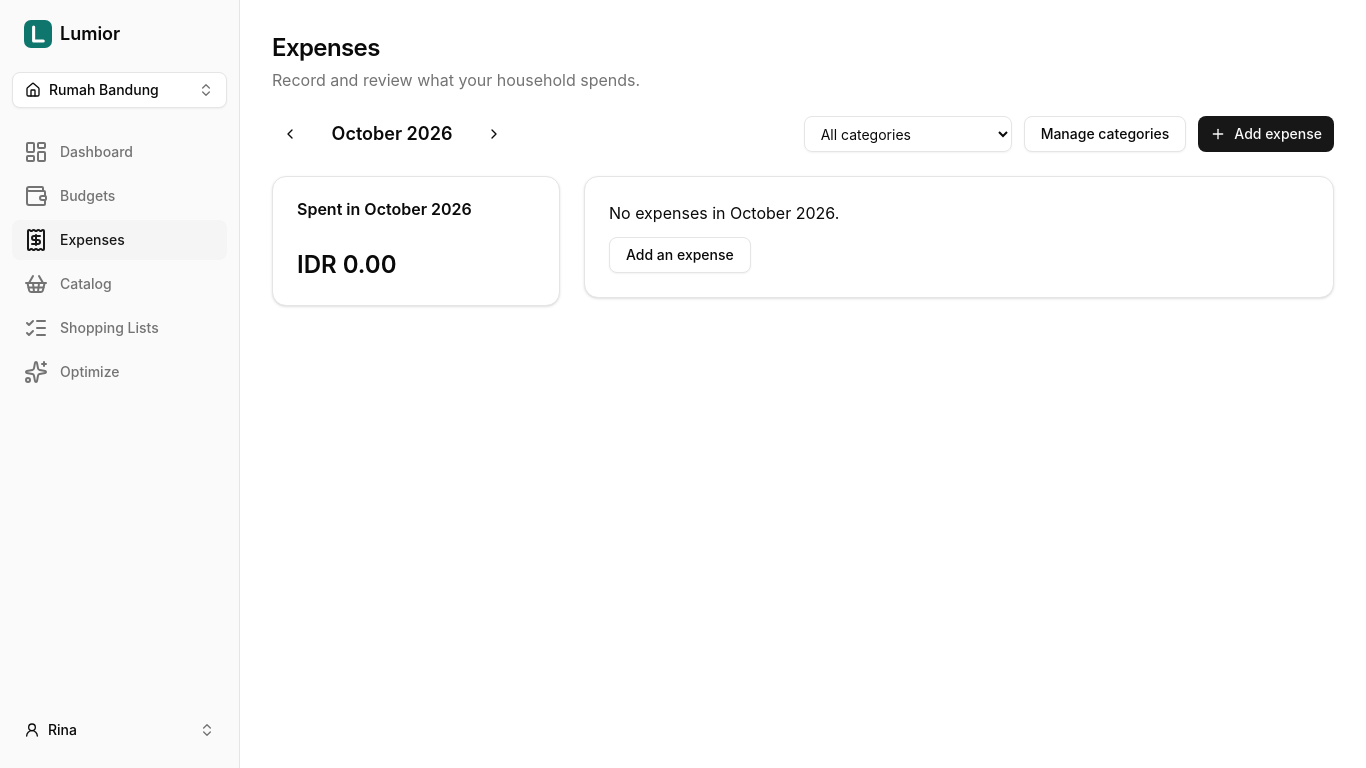
adding an expense › an expense for another month opens that month
Click the button "Add expense" at (1266, 134), box [1198, 116, 1334, 152]
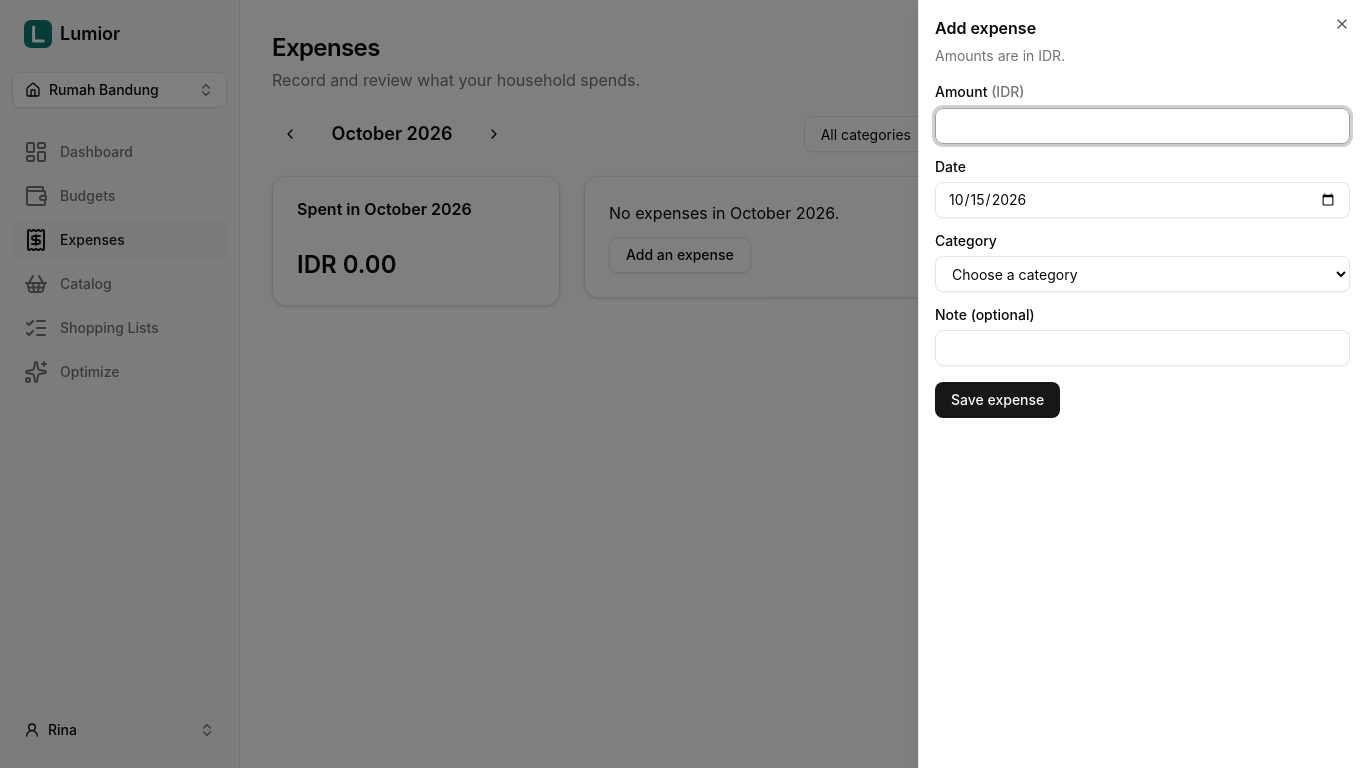
Type "12000" into the field labelled "Amount (IDR)" at (1142, 126), box [935, 108, 1350, 144]
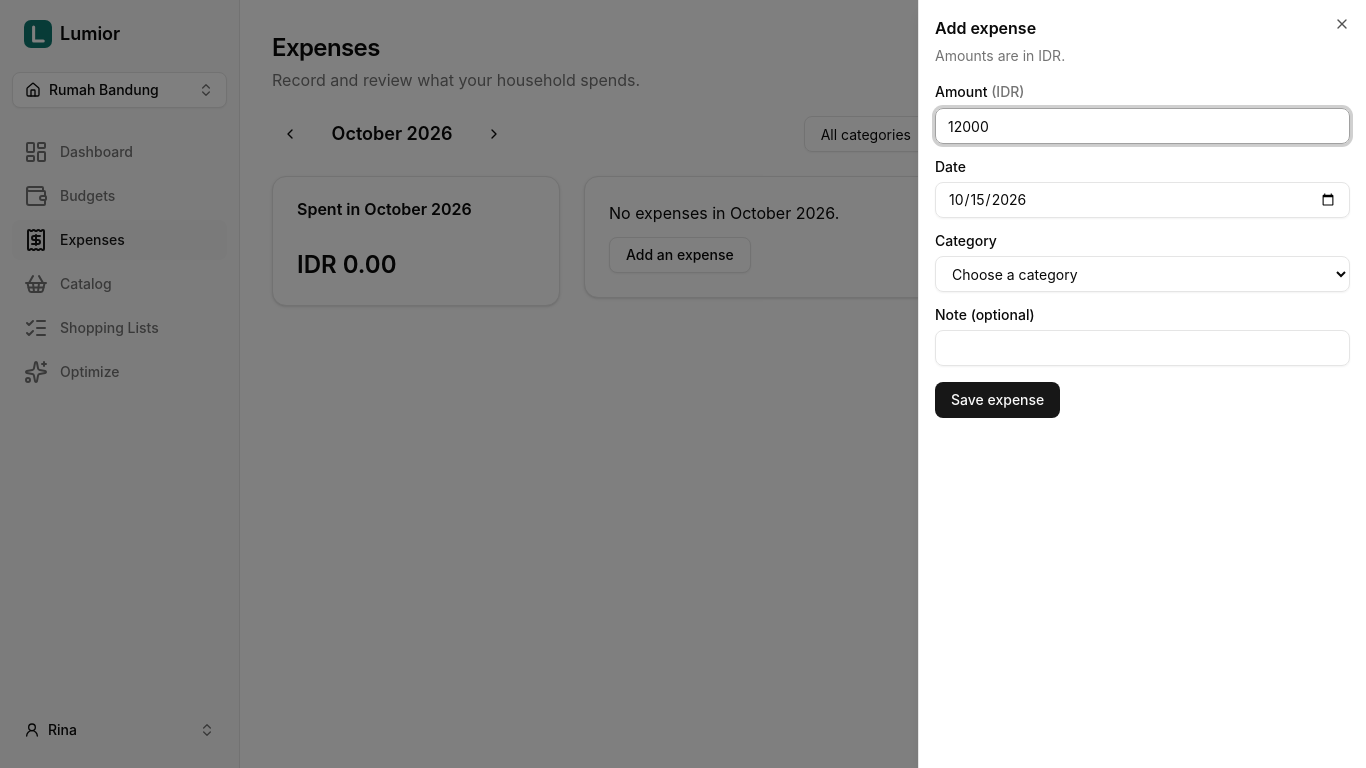
Type "2026-09-28" into the date field labelled "Date" at (1142, 200), box [935, 182, 1350, 218]
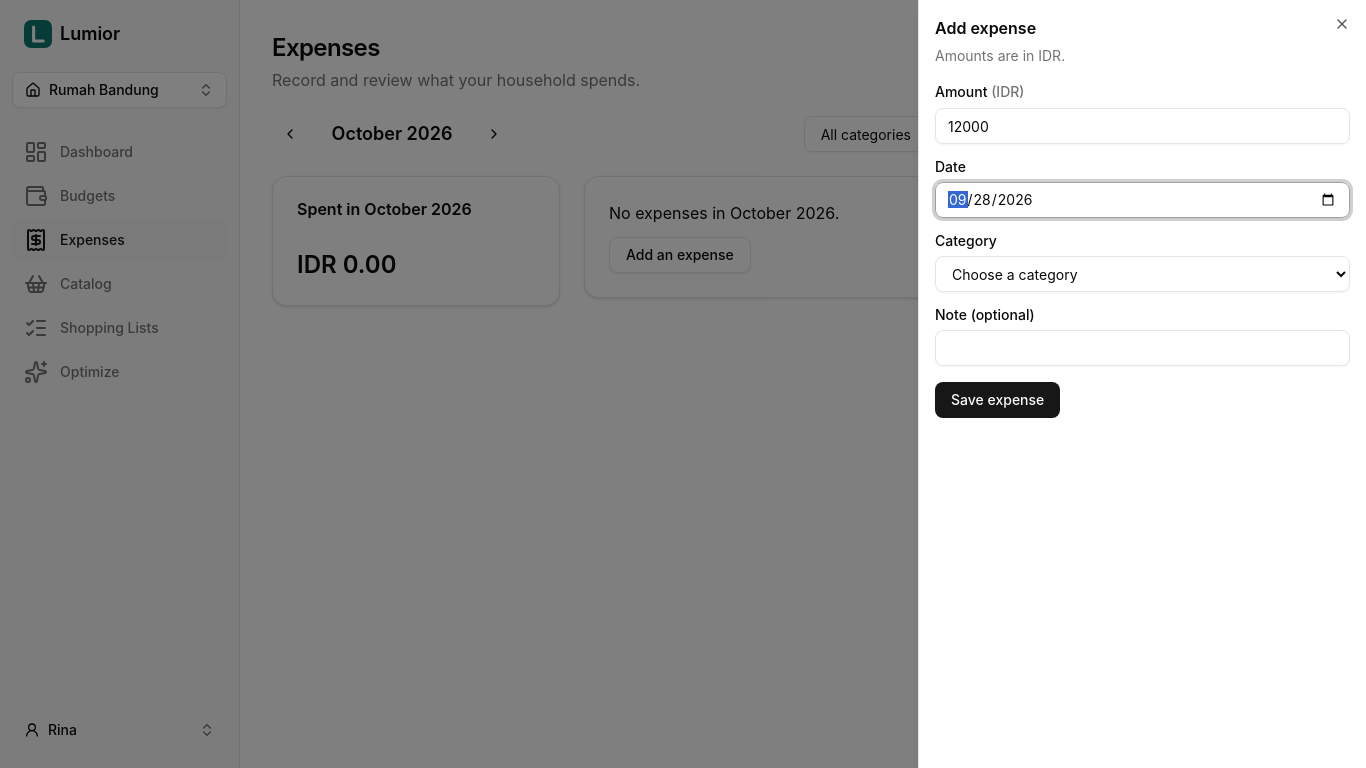
Select "Transport" in the dropdown labelled "Category" at (1142, 274), box [935, 256, 1350, 292]
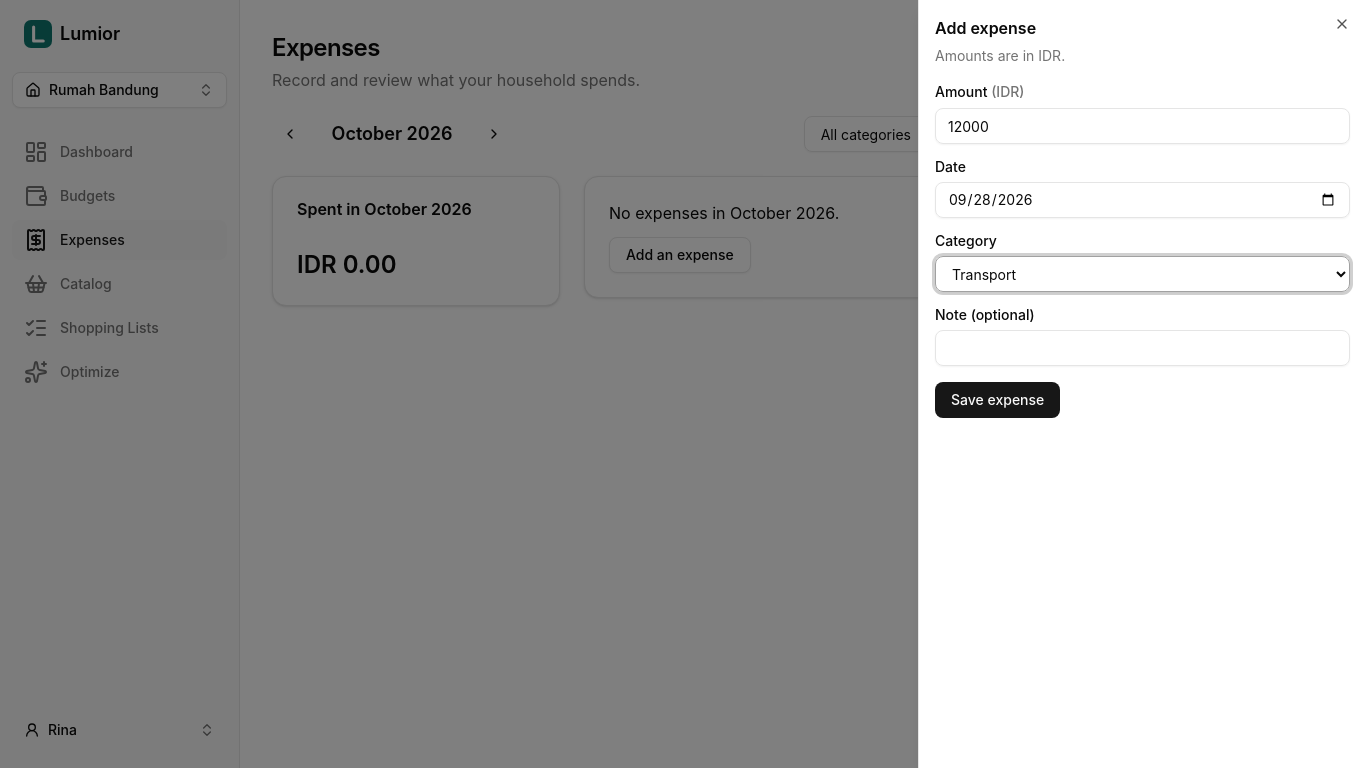
Click the button "Save expense" at (998, 400), box [935, 382, 1060, 418]
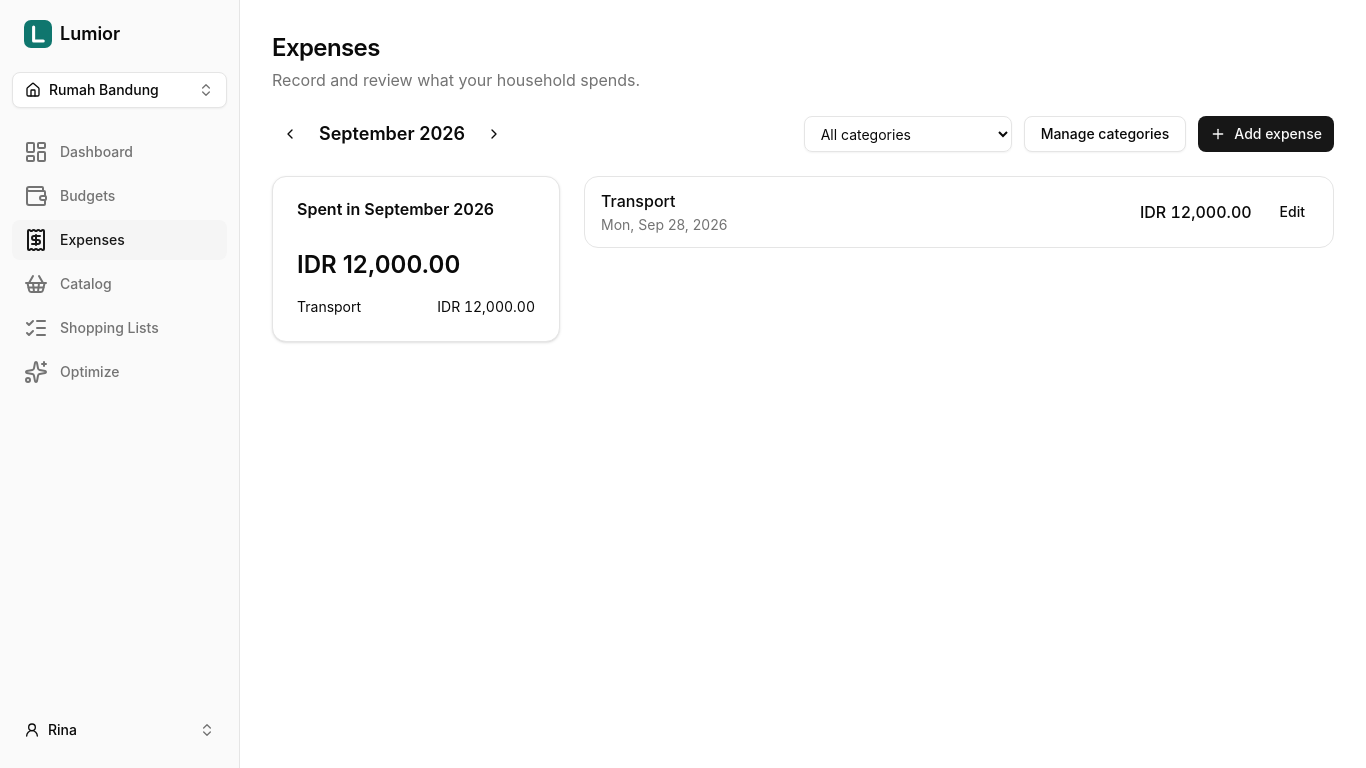
Check: the heading "September 2026" is shown, box [312, 120, 472, 148]
